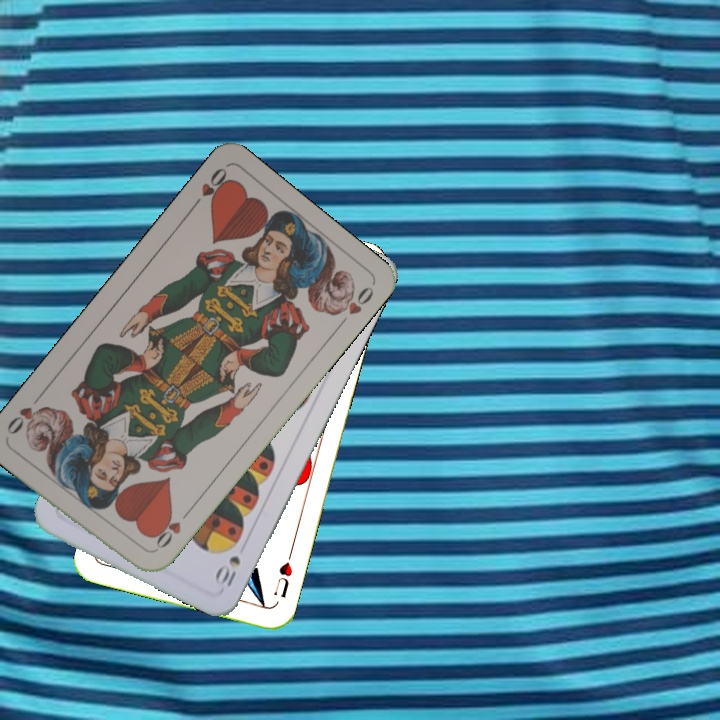HO: (187, 163, 233, 213), (146, 507, 192, 556)
HU: (270, 547, 295, 601)
S10: (213, 551, 244, 590)
